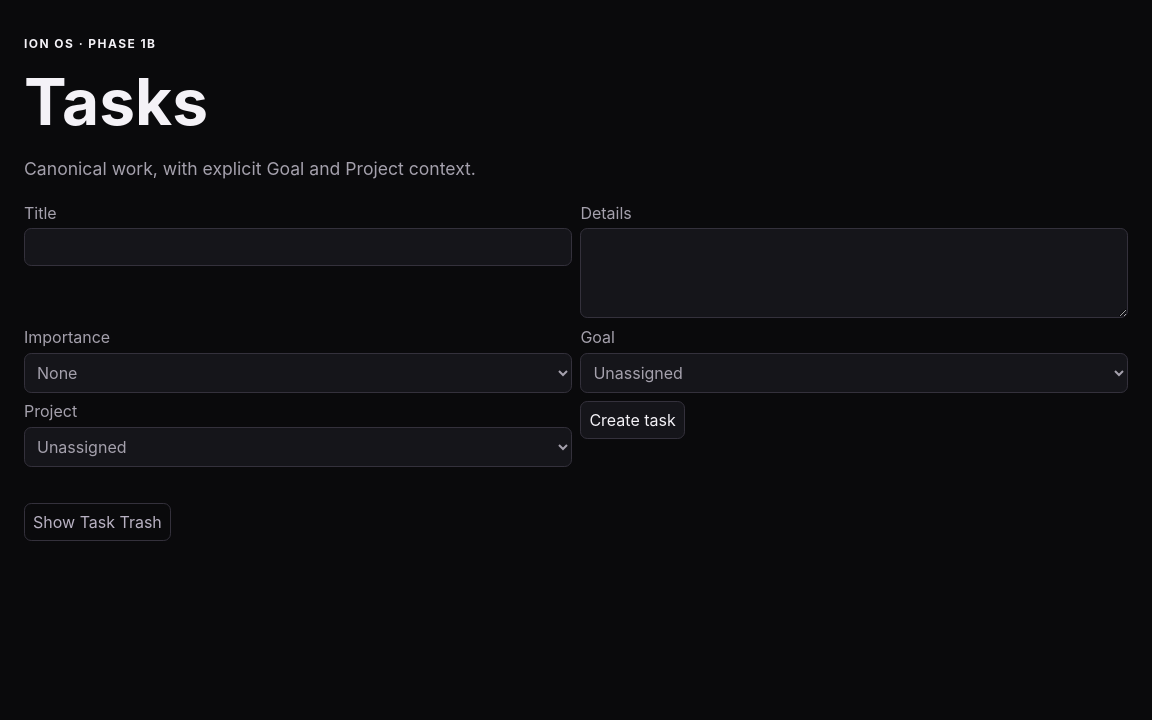
submits one Task while canonical creation is pending
The image size is (1152, 720).
Type "Synthetic Task" into the field labelled "Title".
click(298, 247); type("Synthetic Task")  # box [24,228,572,266]
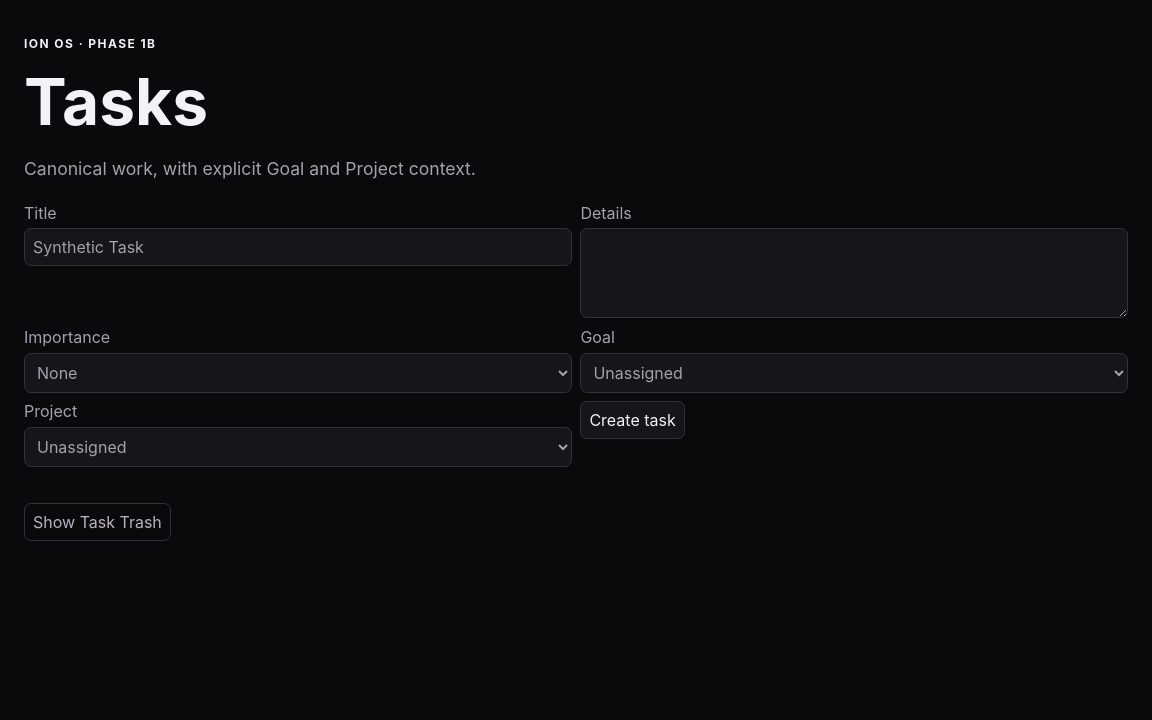
Submit the form "Title", box [24,203,1128,467]
Submit the form "Title", box [24,203,1128,467]
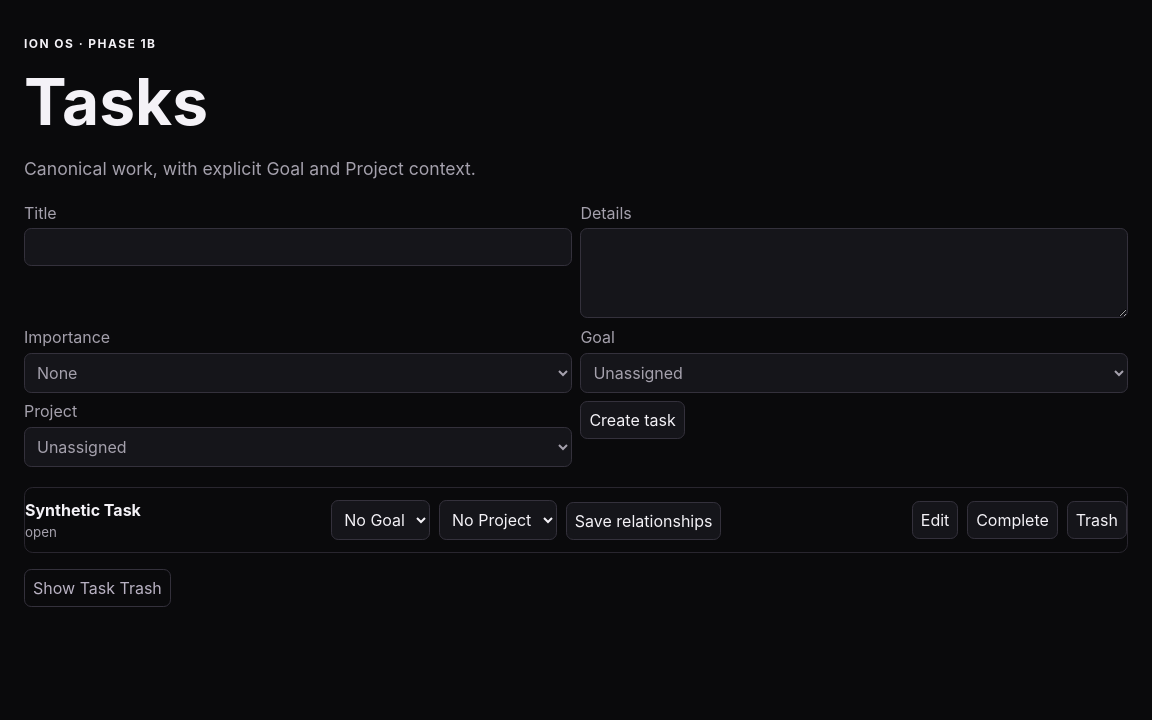
Now the text "Synthetic Task" is shown, box [25,500,141,520]
